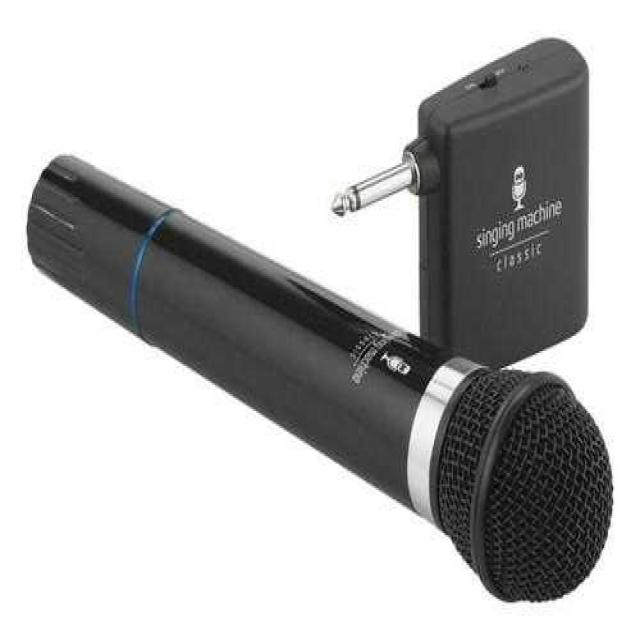microphone: (29, 165, 600, 604)
